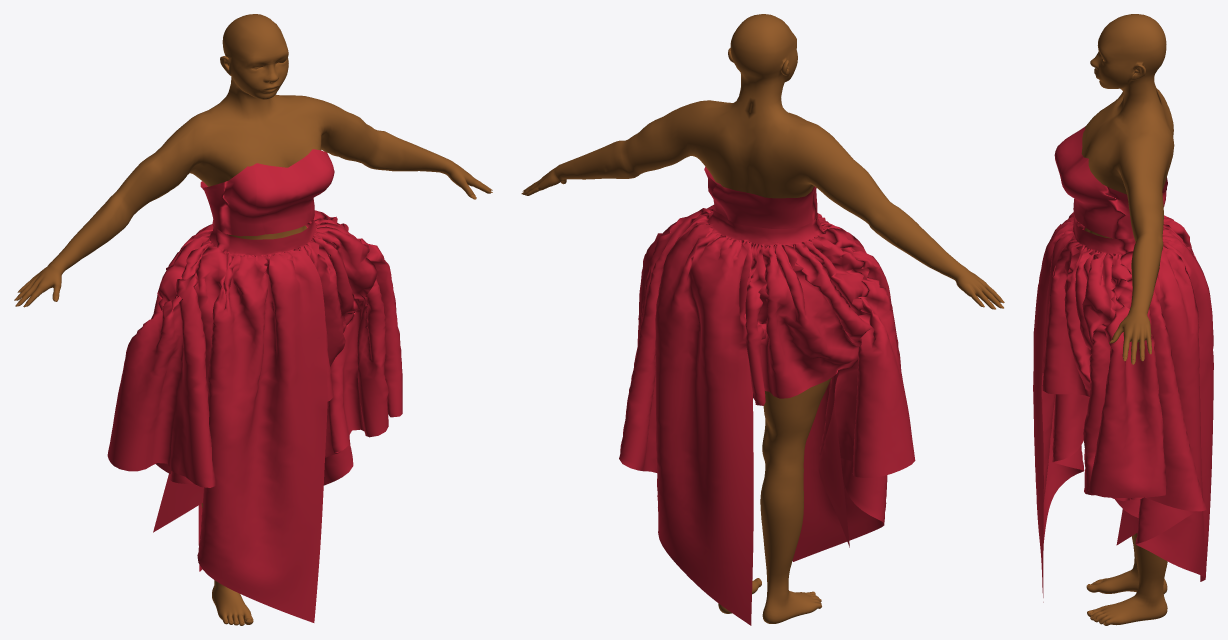
File: dress2.glb
3 renders of one model, left to right at view 1: azimuth 30°, elevation 25°; view 2: azimuth 150°, elevation 25°; view 3: azimuth 270°, elevation 25°, orthographic.
Visible parts, largest first — view 1: Project 1, Body; view 2: Project 1, Body; view 3: Project 1, Body.
Part boxes in pixels (x1,y1,x2,y2): Project 1: (107,149,402,622); Body: (16,14,492,625); Project 1: (619,167,915,625); Body: (523,14,1001,623); Project 1: (1033,126,1213,602); Body: (1081,14,1174,625).
Size of the model in its own units: 1.58 by 1.85 by 0.5151.
